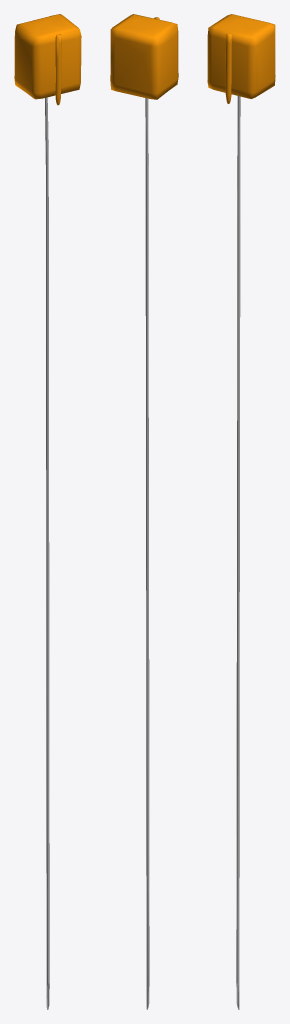
File: estilete.fbx
The picture shows the model from 3 angles, left to right: view 1: azimuth 30°, elevation 25°; view 2: azimuth 150°, elevation 25°; view 3: azimuth 330°, elevation 25°; orthographic projection.
Visible parts, largest first — view 1: polySurface5; view 2: polySurface5; view 3: polySurface5.
Part boxes in pixels (bbox=[...]): polySurface5: bbox=[14, 14, 81, 1009]; polySurface5: bbox=[110, 14, 178, 1009]; polySurface5: bbox=[207, 14, 275, 1009].
Bounding box in the file's own units: 63.85 × 1217 × 55.31.
